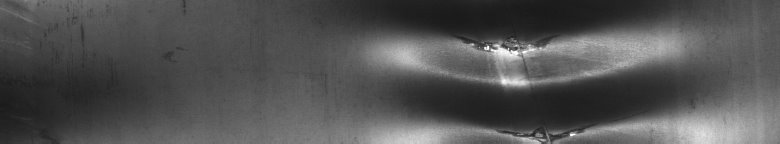ke: (436, 36, 637, 136)
